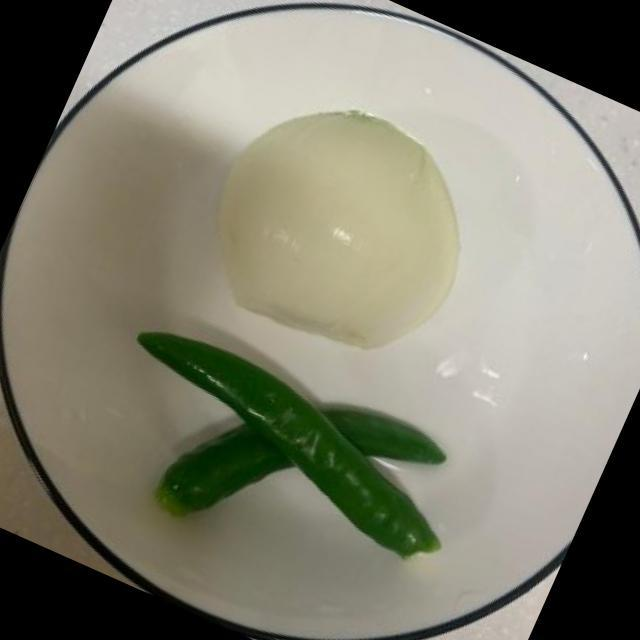Onion: (222, 110, 463, 351)
